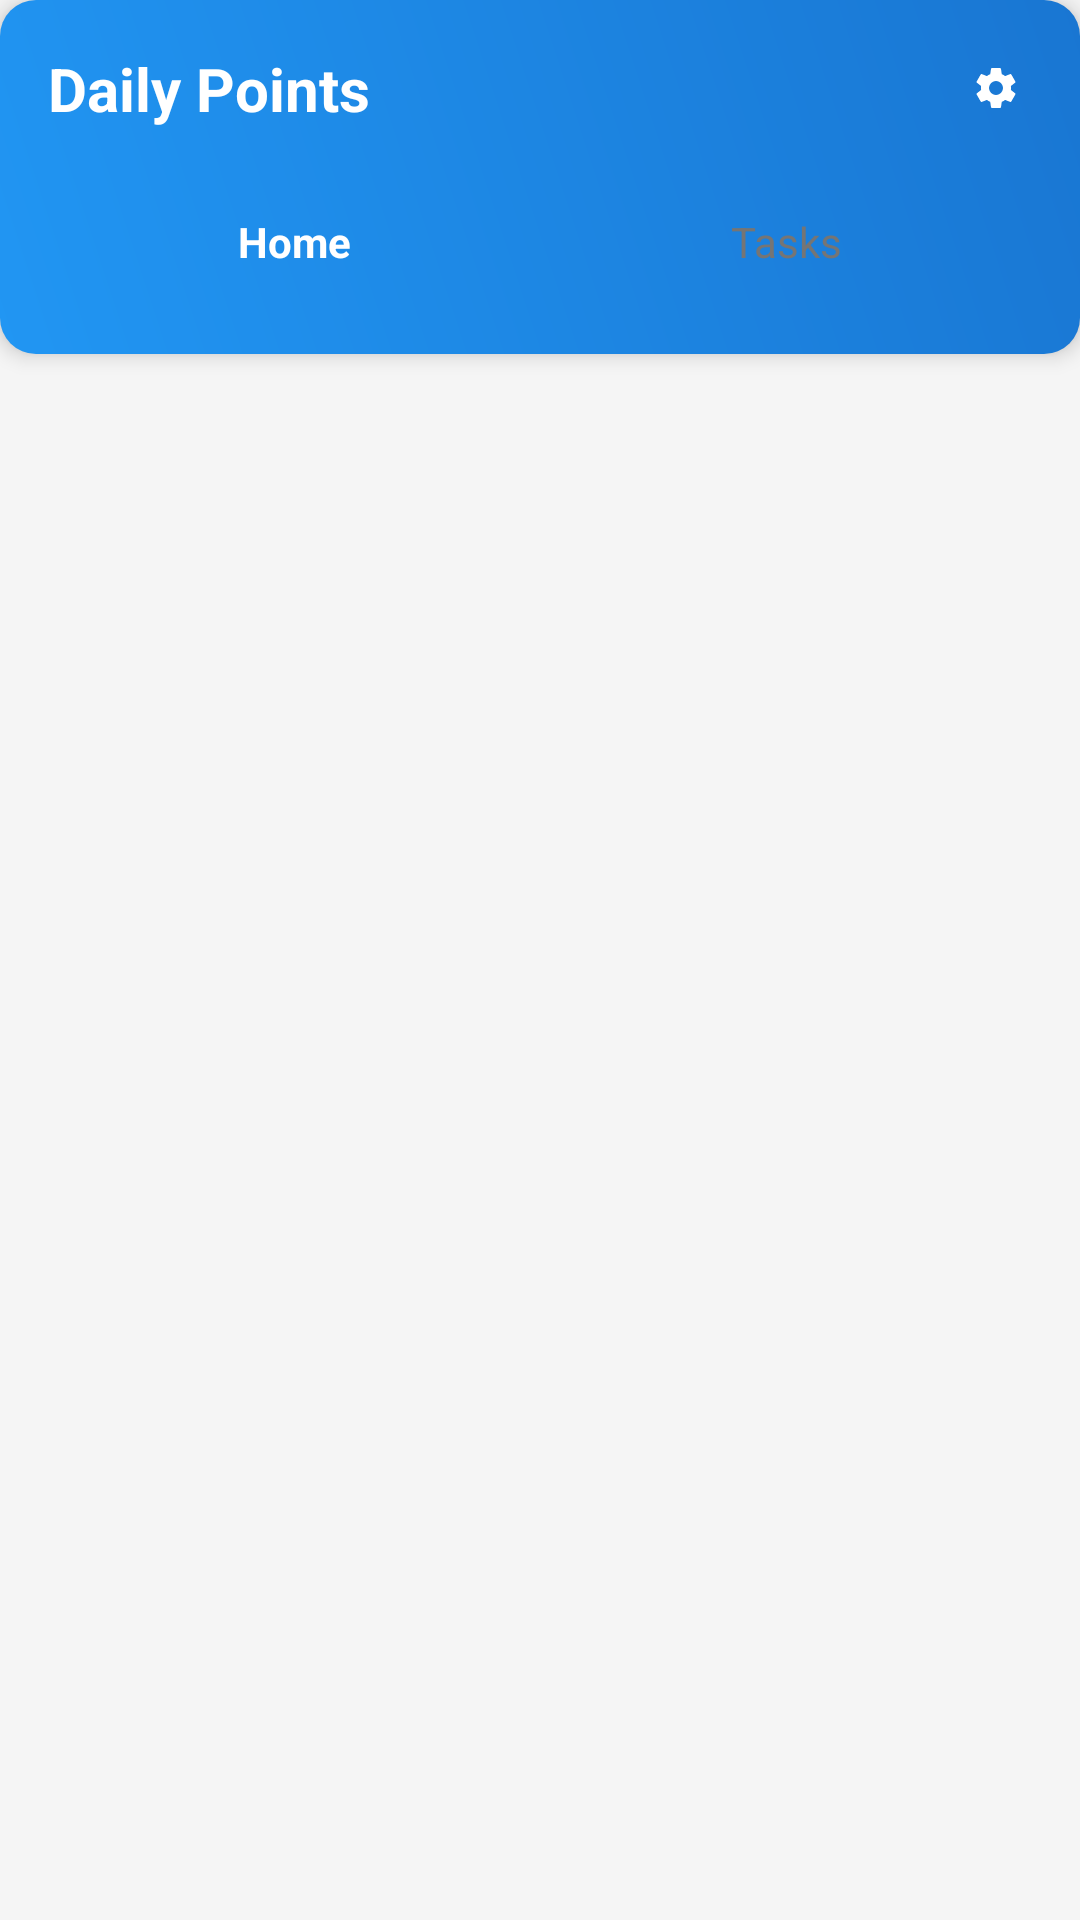

Screen size 1080px×1920px. Icon name, then its box in pixels as (x1, y1, x2, y2):
settings: (976, 68, 1016, 108)
